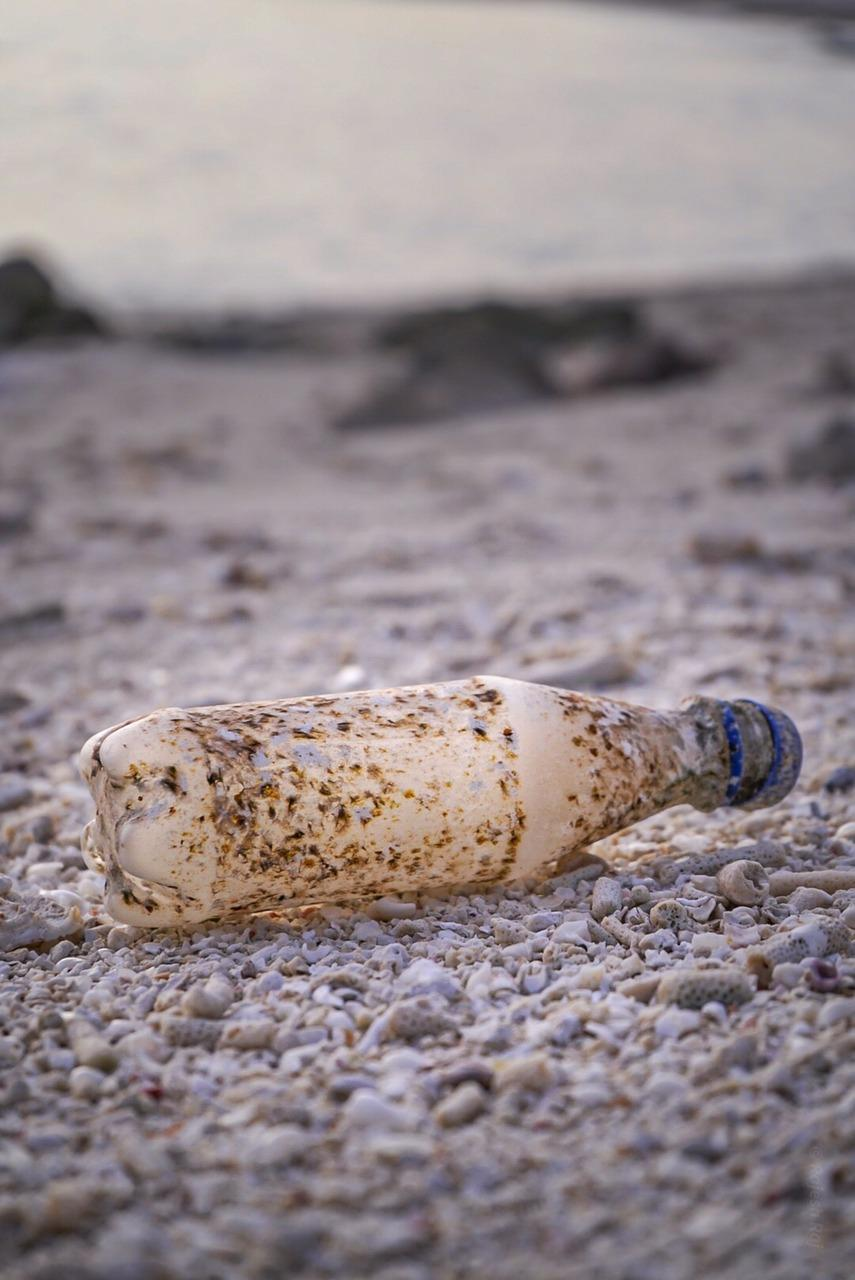Plastic: (68, 666, 808, 948)
